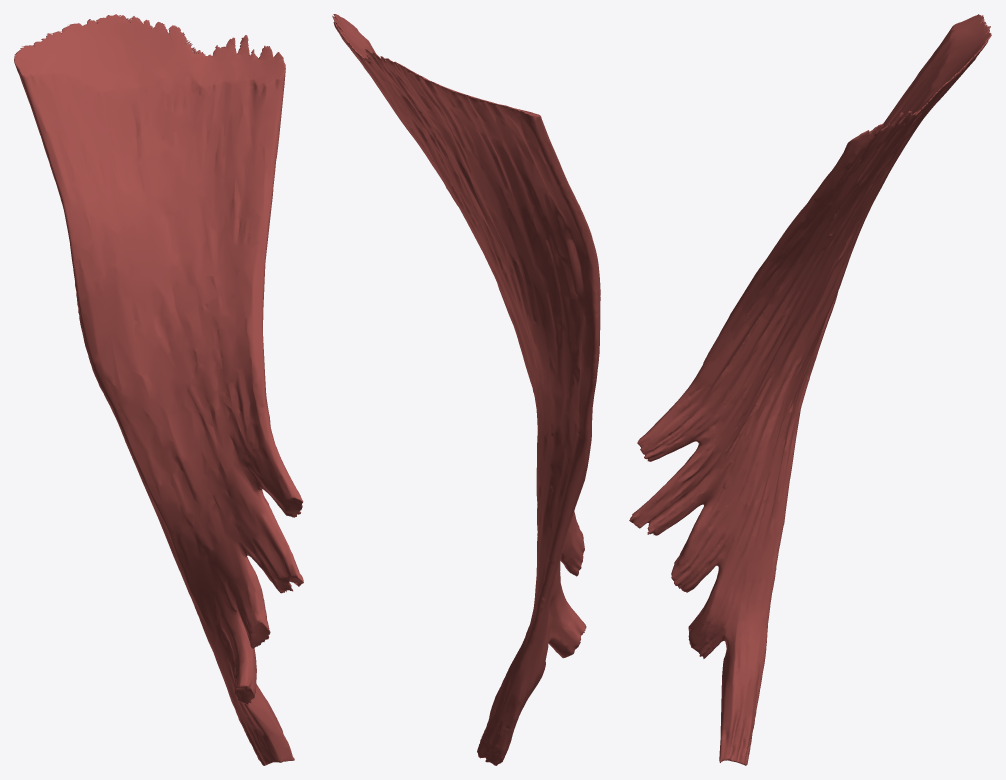
File: FMA22877.glb
The picture shows the model from 3 angles, left to right: view 1: azimuth 30°, elevation 25°; view 2: azimuth 150°, elevation 25°; view 3: azimuth 270°, elevation 25°; orthographic projection. The views are drawn at different scales.
Visible parts, largest first — view 1: FMA22877; view 2: FMA22877; view 3: FMA22877.
Boxes of the visible parts, x1,y1,x2,y2 form: FMA22877: (14, 14, 303, 765); FMA22877: (332, 14, 600, 765); FMA22877: (629, 14, 991, 765).
Bounding box in the file's own units: 0.0402 × 0.1201 × 0.0567.
